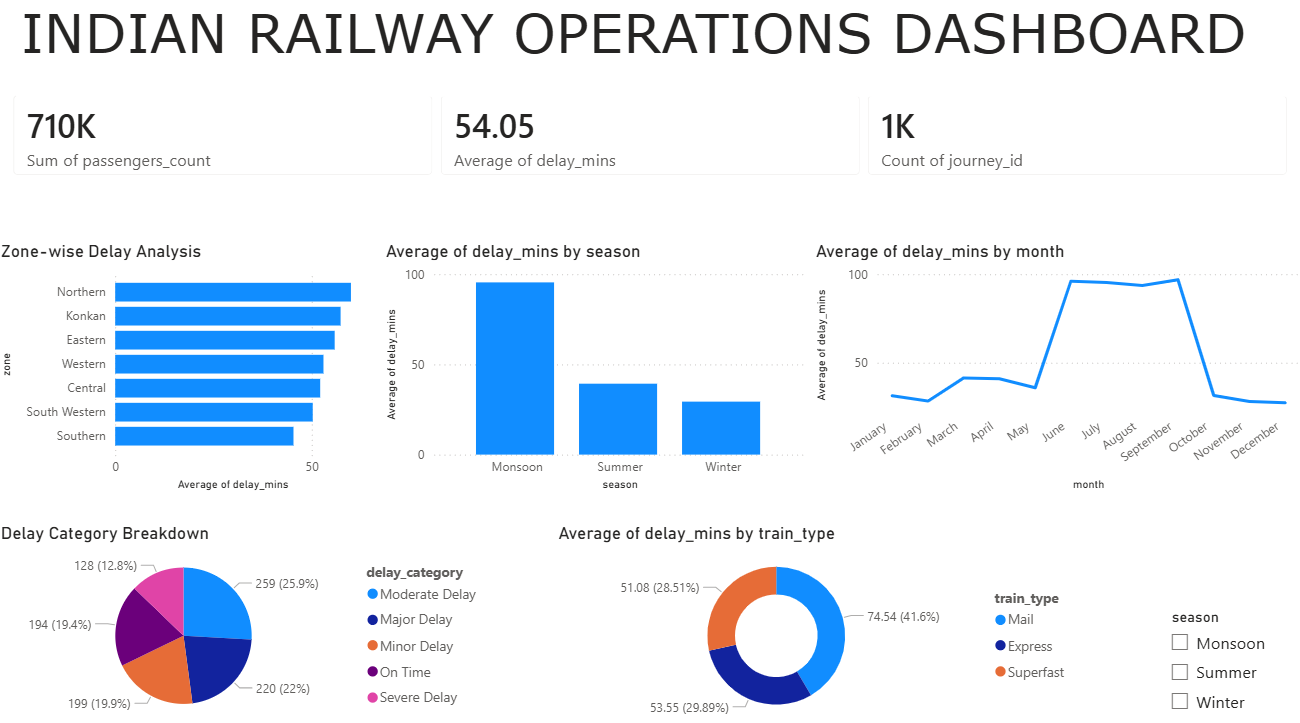

Layout of this report page (visuals, bound fields, positions):
{"tool":"powerbi","page":{"name":"Page 1","canvas":[1280,720],"ordinal":0},"visuals":[{"type":"clusteredBarChart","title":"Zone-wise Delay Analysis","fields":{"Category":["rail_data.zone"],"Y":["Avg(rail_data.delay_mins)"]},"box":[0,242.1,359.5,249.5],"z":0},{"type":"clusteredColumnChart","fields":{"Y":["Avg(rail_data.delay_mins)"],"Category":["rail_data.season"]},"box":[376.6,242.1,420.7,249.5],"z":1000},{"type":"lineChart","fields":{"Y":["Avg(rail_data.delay_mins)"],"Category":["rail_data.month"]},"box":[797.3,242.1,483,249.5],"z":2000},{"type":"pieChart","title":"Delay Category Breakdown","fields":{"Category":["rail_data.delay_category"],"Y":["CountNonNull(rail_data.journey_id)"]},"box":[0,518.5,484.2,201.8],"z":3000},{"type":"donutChart","fields":{"Category":["rail_data.train_type"],"Y":["Avg(rail_data.delay_mins)"]},"box":[545.4,518.5,517.3,201.8],"z":4000},{"type":"cardVisual","fields":{"Data":["Sum(rail_data.passengers_count)","Avg(rail_data.delay_mins)","CountNonNull(rail_data.journey_id)"]},"box":[0,101.5,1280.3,94.2],"z":5000},{"type":"slicer","fields":{"Values":["rail_data.season"]},"box":[1137.2,596.7,143.1,123.5],"z":5001},{"type":"textbox","box":[19.6,0,1260.7,101.5],"z":5003}]}

Visuals, with their boxes in screenshot pixels (x1, y1, x2, y2), scaled from the page's 1280x720 canvas onto the 1300x723 screenshot:
"Zone-wise Delay Analysis" clusteredBarChart: [left=0, top=243, right=365, bottom=494]
clusteredColumnChart - Avg(rail_data.delay_mins) x rail_data.season: [left=382, top=243, right=810, bottom=494]
lineChart - Avg(rail_data.delay_mins) x rail_data.month: [left=810, top=243, right=1299, bottom=494]
"Delay Category Breakdown" pieChart: [left=0, top=521, right=492, bottom=722]
donutChart - rail_data.train_type x Avg(rail_data.delay_mins): [left=554, top=521, right=1079, bottom=722]
cardVisual - Sum(rail_data.passengers_count) x Avg(rail_data.delay_mins): [left=0, top=102, right=1299, bottom=197]
slicer - rail_data.season: [left=1155, top=599, right=1299, bottom=722]
textbox: [left=20, top=0, right=1299, bottom=102]
